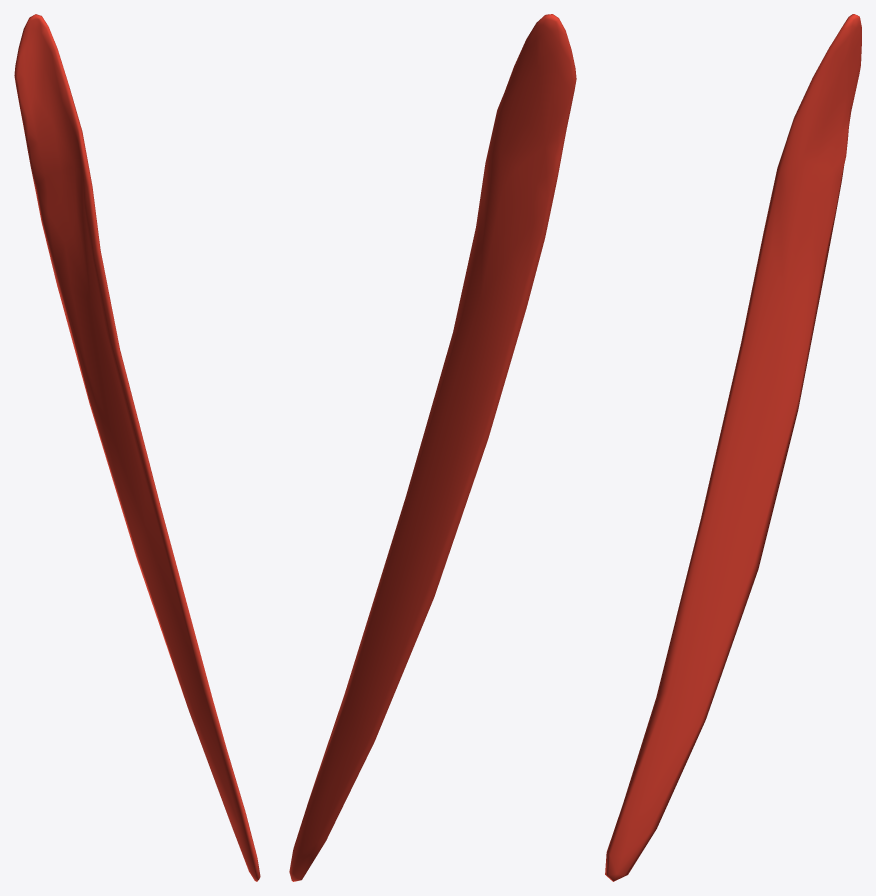
File: Supinator-Ulnar_insertion.l_Generated_Mesh_From_X3D.605.glb
3 renders of one model, left to right at view 1: azimuth 30°, elevation 25°; view 2: azimuth 210°, elevation 25°; view 3: azimuth 270°, elevation 25°, orthographic. The views are drawn at different scales.
Parts seen in each view (by area): view 1: Supinator-Ulnar_insertion.l_Generated_Mesh_From_X3D.605; view 2: Supinator-Ulnar_insertion.l_Generated_Mesh_From_X3D.605; view 3: Supinator-Ulnar_insertion.l_Generated_Mesh_From_X3D.605.
Boxes of the visible parts, bbox=[...] form: Supinator-Ulnar_insertion.l_Generated_Mesh_From_X3D.605: bbox=[14, 14, 260, 881]; Supinator-Ulnar_insertion.l_Generated_Mesh_From_X3D.605: bbox=[289, 14, 576, 881]; Supinator-Ulnar_insertion.l_Generated_Mesh_From_X3D.605: bbox=[605, 14, 861, 881].
Bounding box in the file's own units: 0.00907 × 0.0562 × 0.016.
